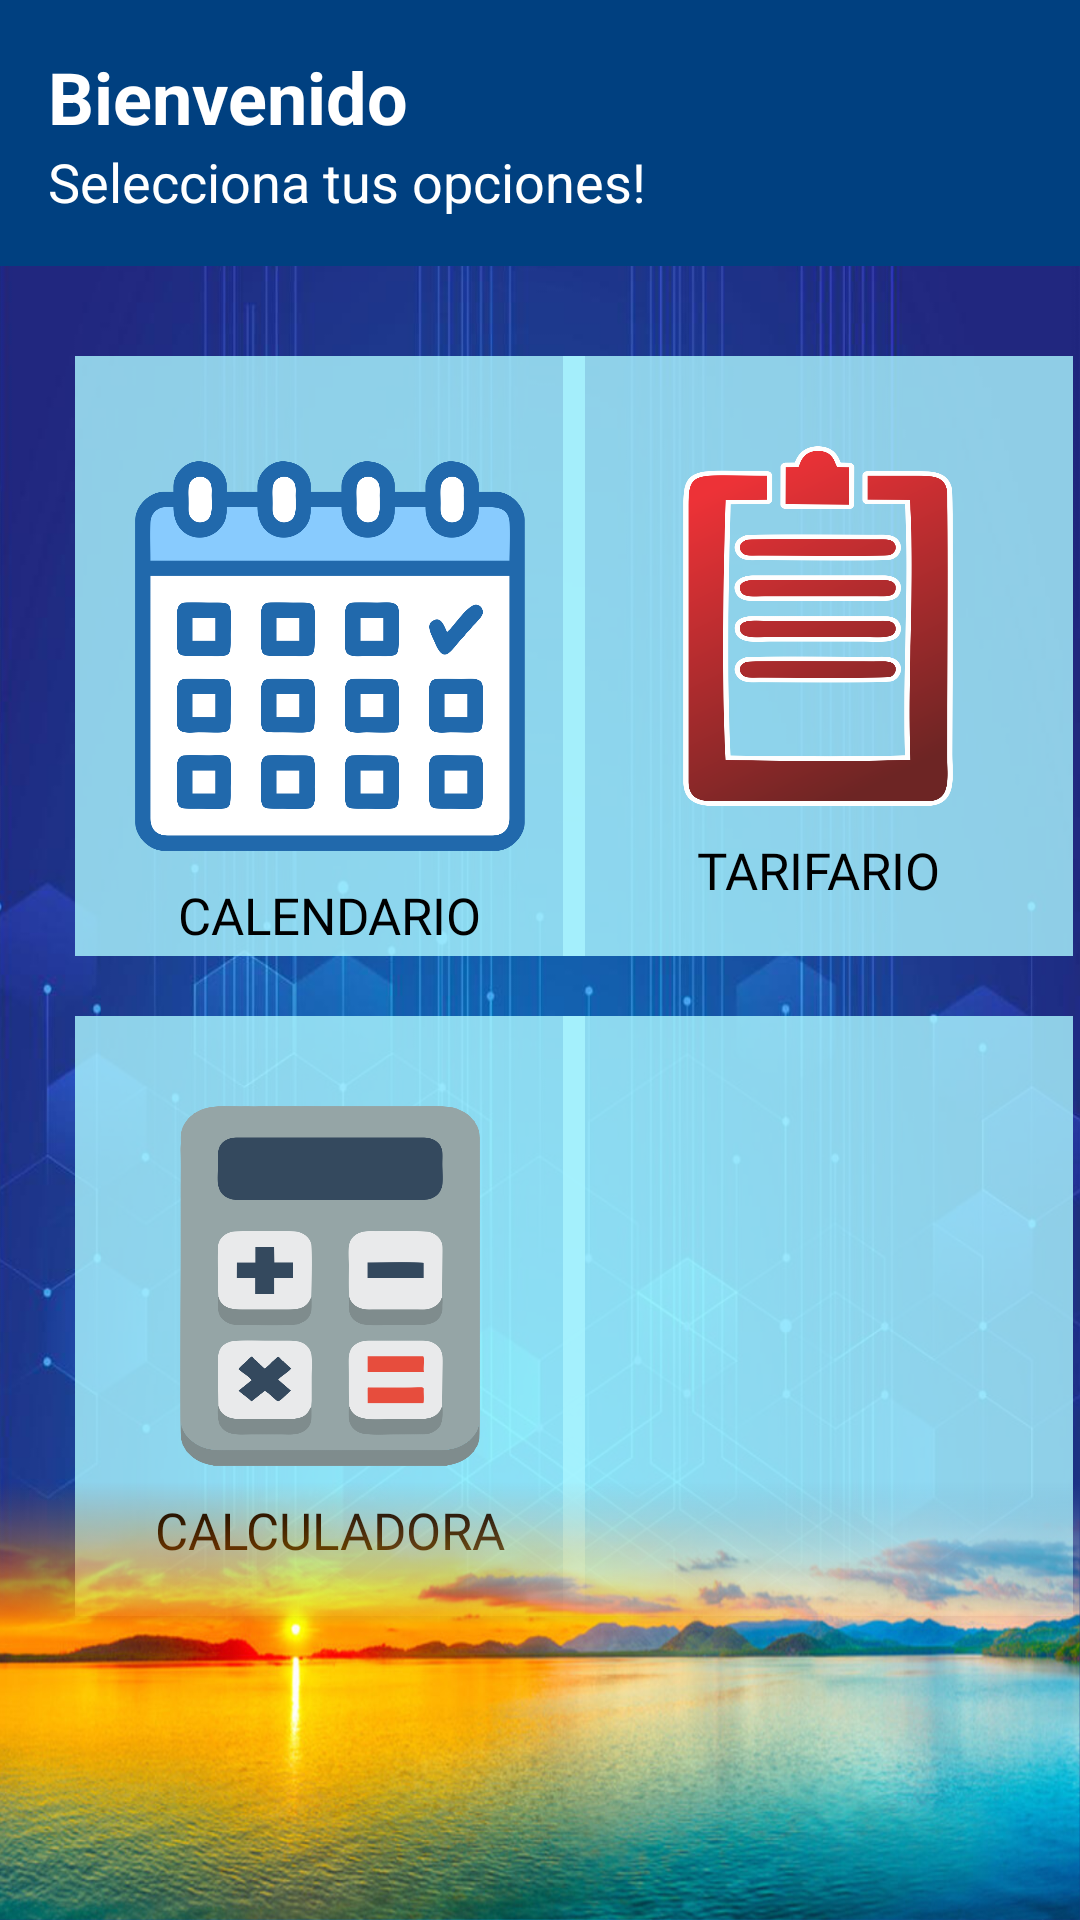

Icon bounding boxes for this 1080 × 1920 phone screenshot, format (x1, y1, x2, y2):
tablero: (683, 446, 953, 806)
